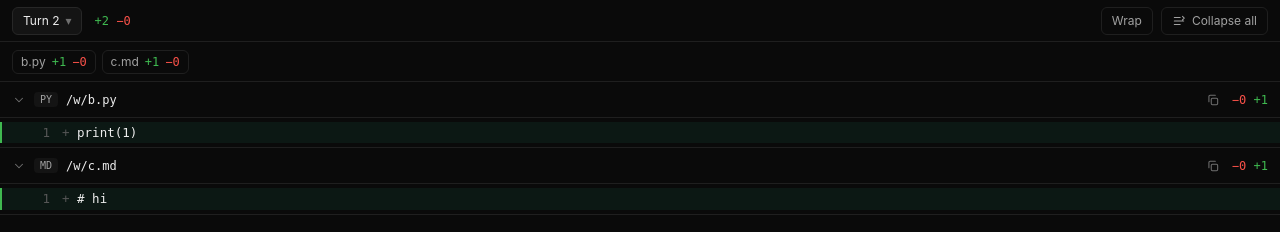
DiffPanel › shows the last turn by default and switches via TurnSelect; Escape closes
This screenshot has width=1280, height=232.
Expected: the element named "Changes in /w/b.py" is shown, [0,82,1279,148]
Click the button with aria-label "Select turn". click: (47, 20)
box: [12,6,82,34]
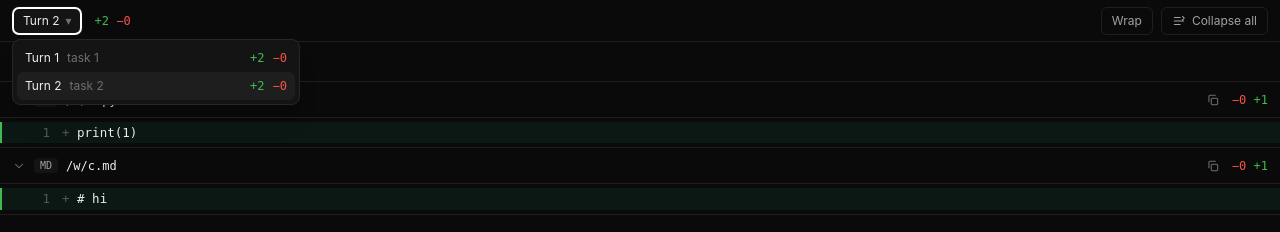
Expected: the number of options is 2, [17,44,295,72]; [17,72,295,100]
Press Escape
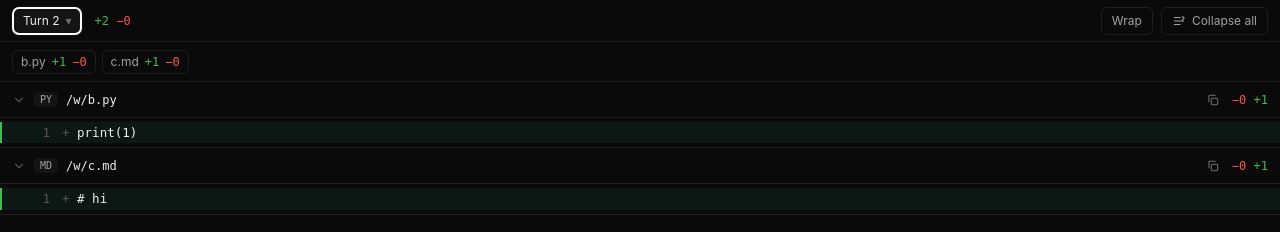
Expected: the list is gone
Click the button with aria-label "Select turn". click: (47, 20)
box: [12,6,82,34]
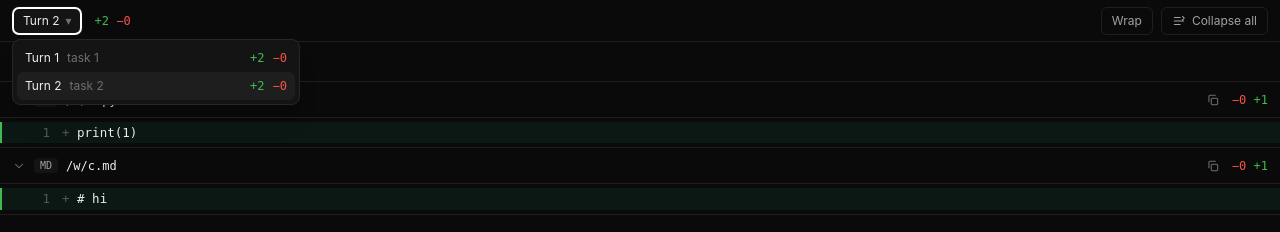
Click the option "Turn 1 task 1 +2 −0". click: (83, 57)
box: [17,44,295,72]
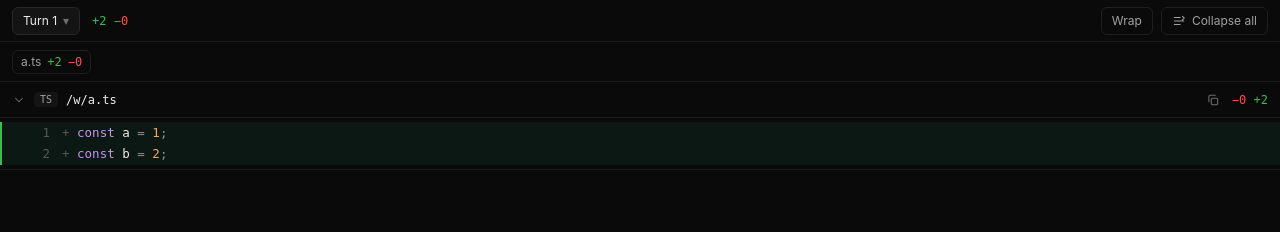
Expected: the element named "Changes in /w/a.ts" is shown, [0,82,1279,170]
Expected: the text "a.ts" is shown, [21,54,41,70]
